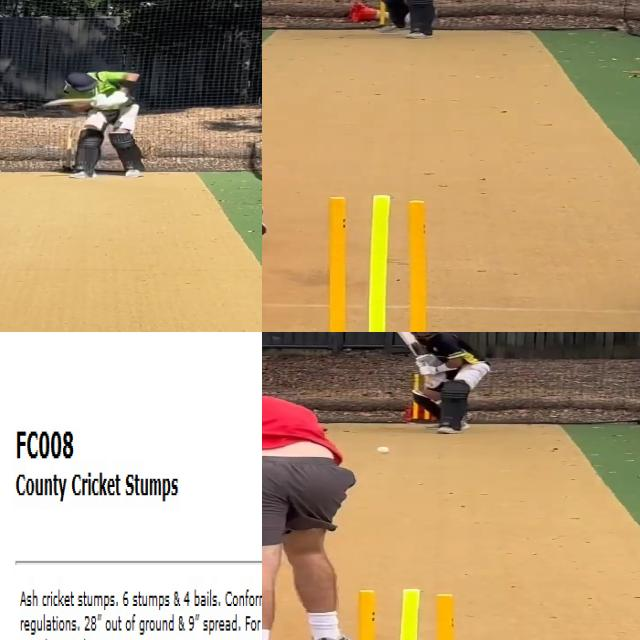Cricket ball: (375, 445, 391, 455)
Stumps: (310, 195, 444, 332), (340, 587, 473, 640)
